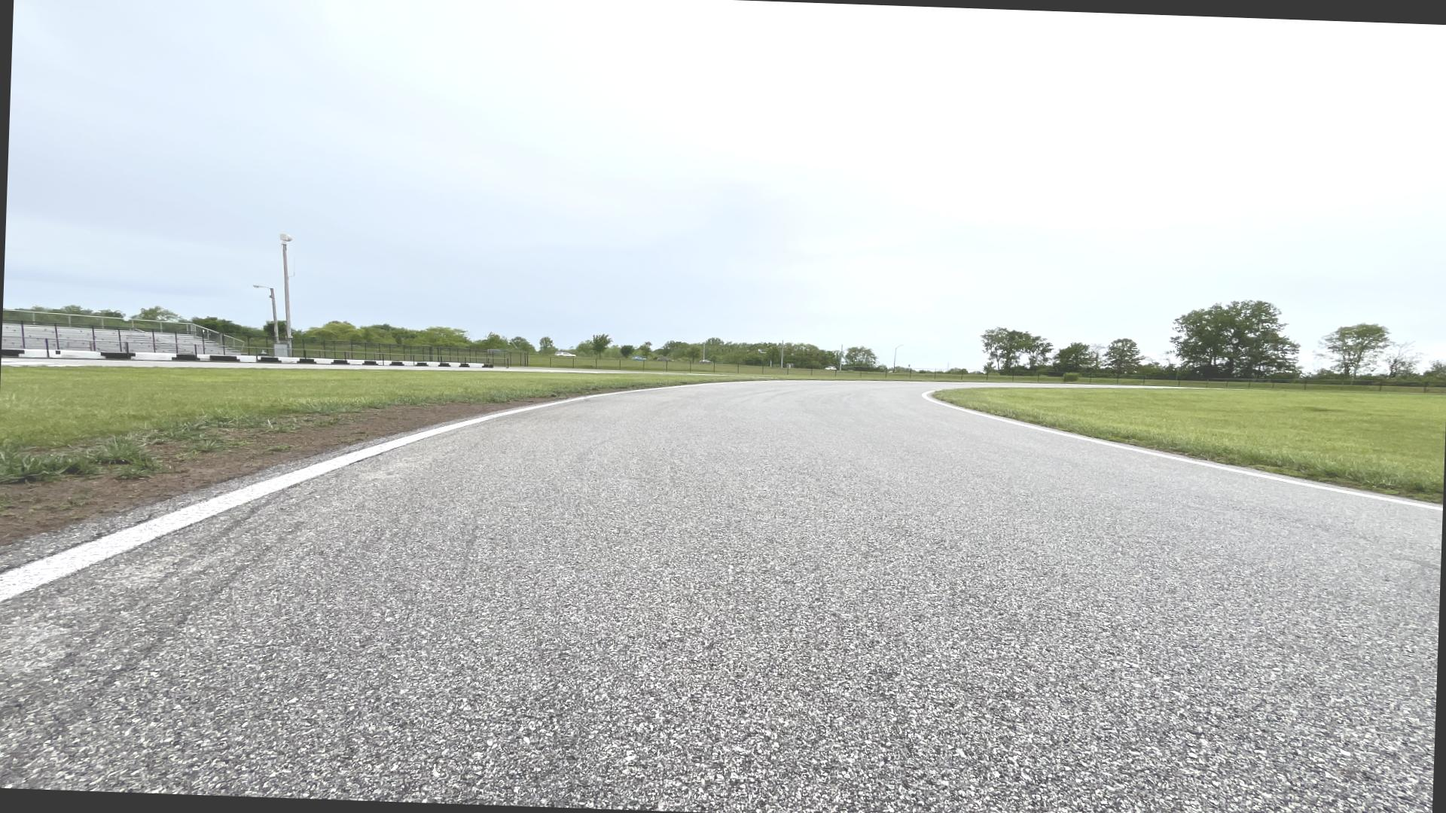white-line: (0, 380, 821, 605), (922, 390, 1442, 510)
